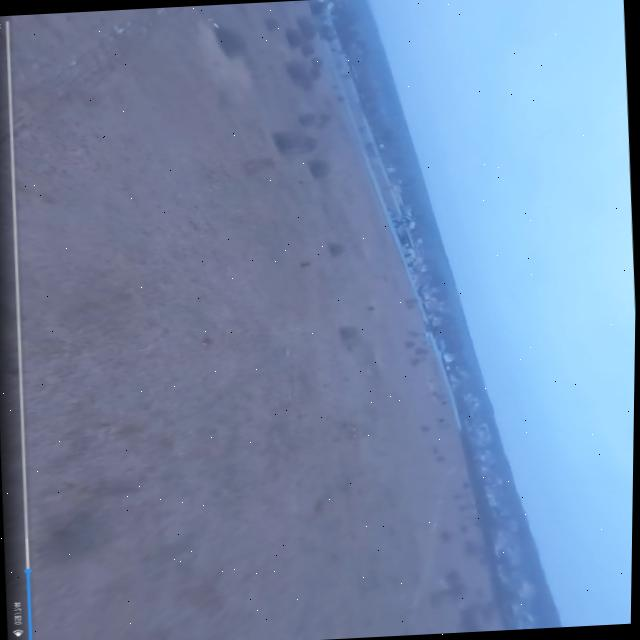planedrone: (413, 318, 438, 346)
